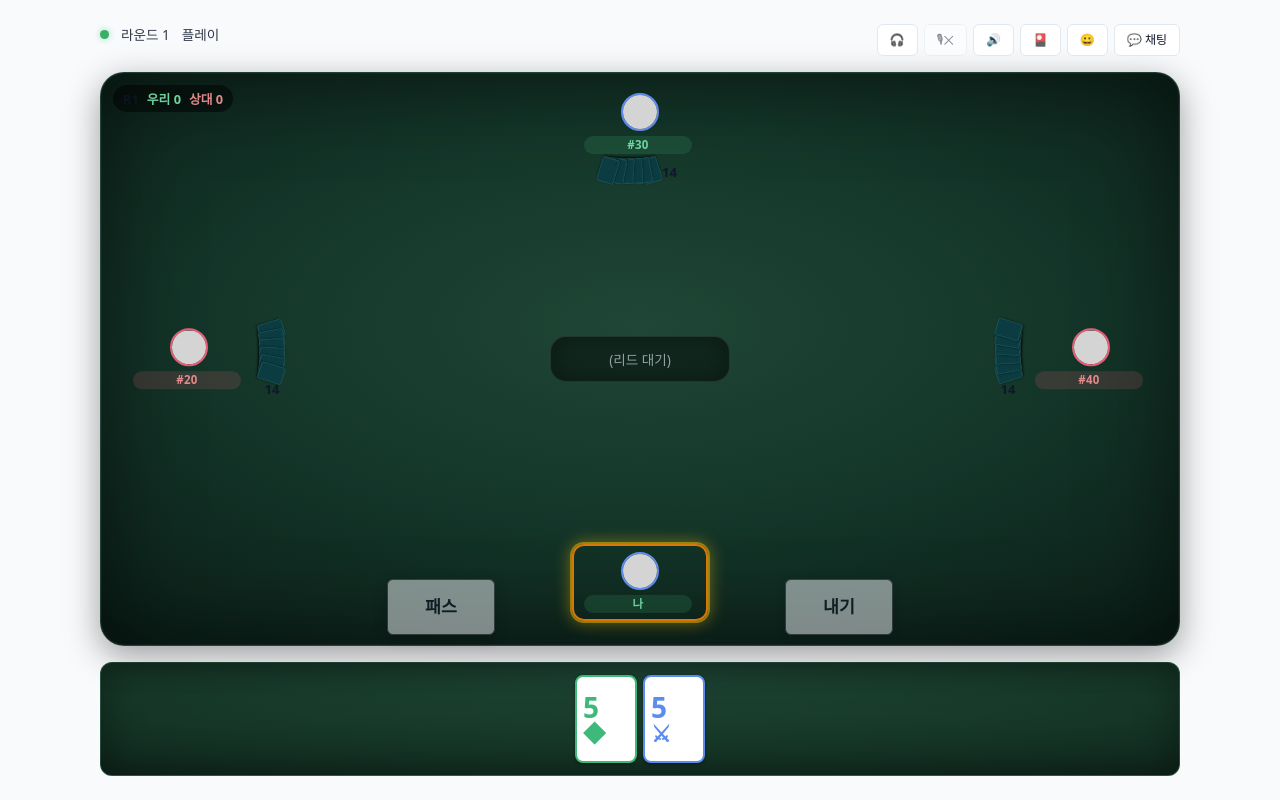
Test: GameTable — 카드 선택 › 선택된 카드가 있으면 조합명 힌트를 표시한다
Click the button named "JADE 5" at (606, 719), box x1=575 y1=675 x2=637 y2=763
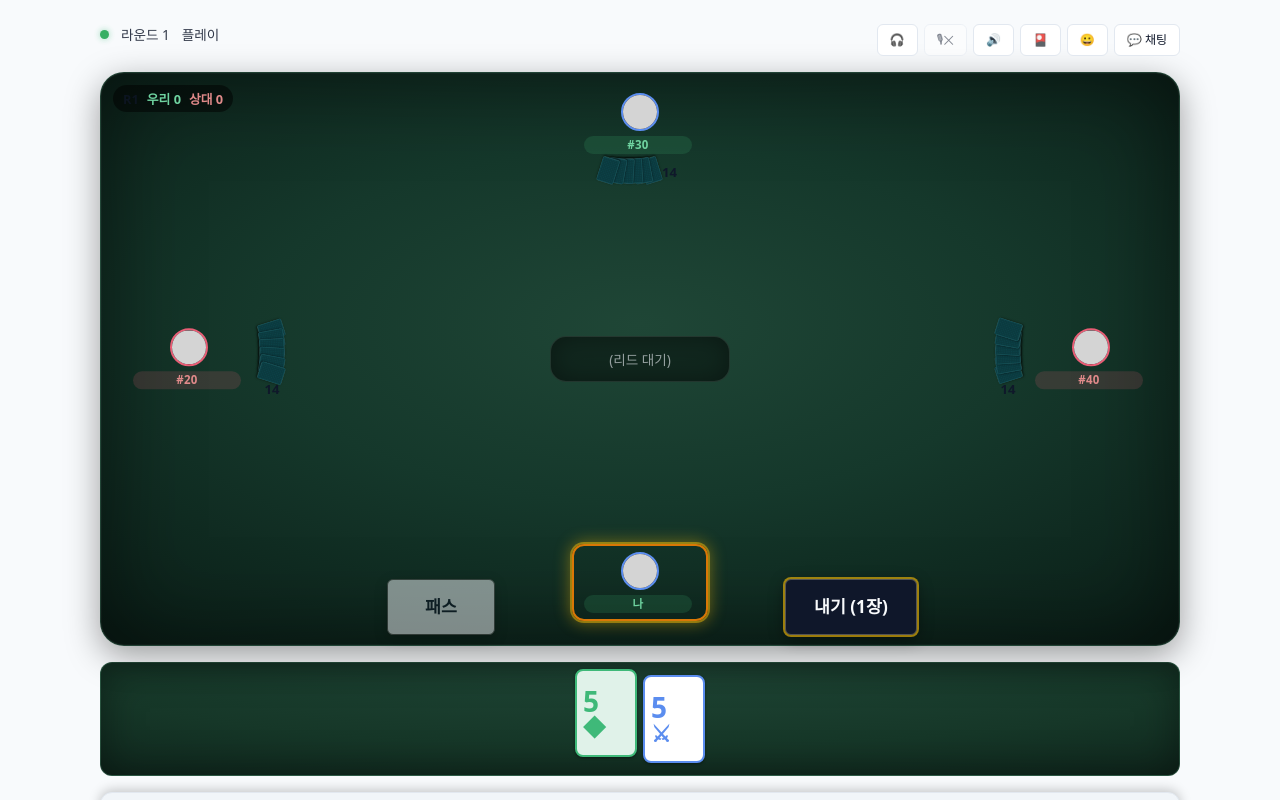
Click the button named "SWORD 5" at (674, 719), box x1=643 y1=675 x2=705 y2=763
(page scrolled)
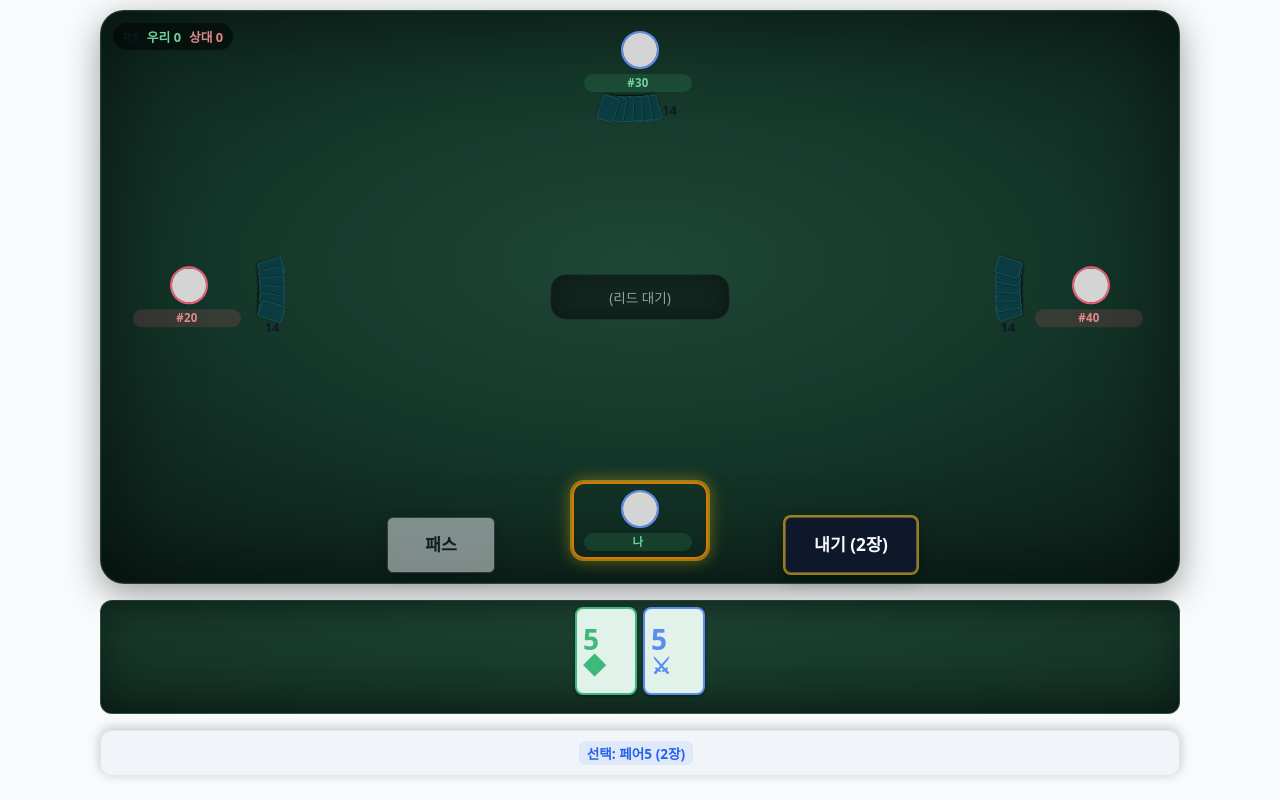
Now the text "선택: 페어5 (2장)" is shown, box x1=579 y1=741 x2=693 y2=765
